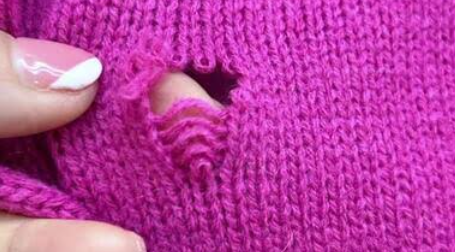missing_stitch_2: (142, 60, 244, 186)
